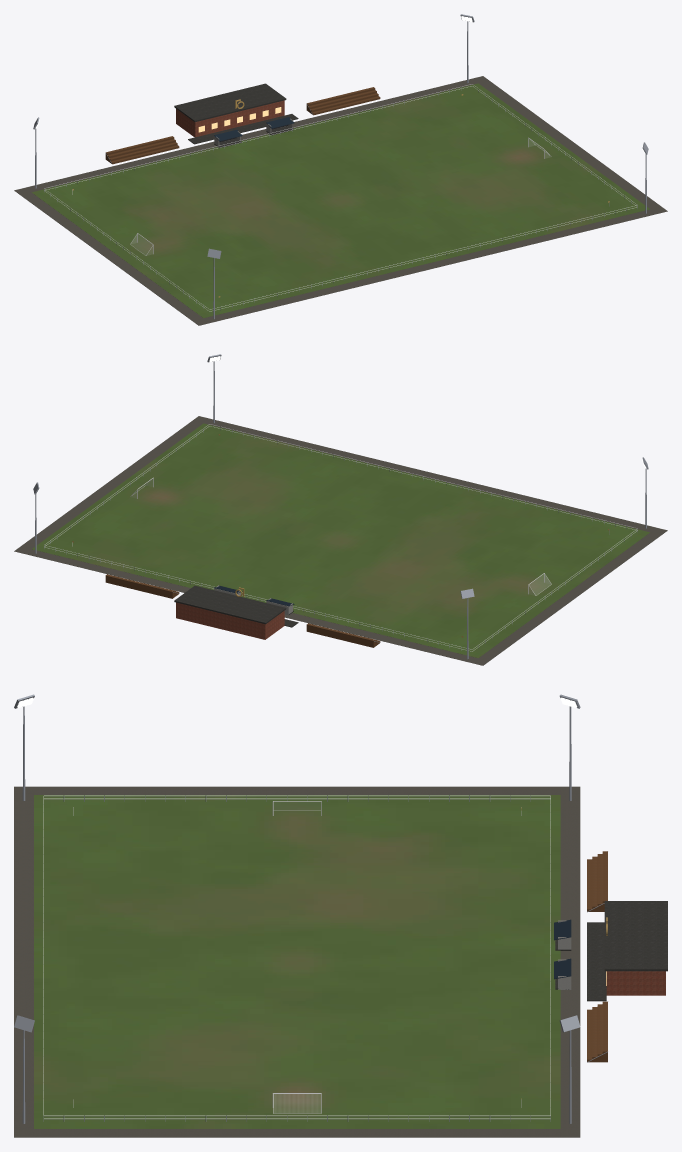
The model's file is terrain_L1.glb.
3 renders of one model, top to bottom at view 1: azimuth 30°, elevation 25°; view 2: azimuth 150°, elevation 25°; view 3: azimuth 270°, elevation 25°, orthographic. The views are drawn at different scales.
Parts seen in each view (by area): view 1: pitch_L1_L1, gravel_L1, concrete_dark_L1, white_L1, wood_L1, brick_L1, steel_L1; view 2: pitch_L1_L1, gravel_L1, white_L1, concrete_dark_L1, brick_L1, wood_L1, steel_L1; view 3: pitch_L1_L1, gravel_L1, concrete_dark_L1, white_L1, wood_L1, steel_L1, brick_L1, net_L1.
Boxes of the visible parts, x1,y1,x2,y2 form: pitch_L1_L1: (32, 83, 649, 318); gravel_L1: (14, 76, 667, 325); concrete_dark_L1: (174, 83, 298, 147); white_L1: (44, 84, 637, 311); wood_L1: (105, 87, 380, 164); brick_L1: (176, 100, 284, 137); steel_L1: (33, 14, 648, 319); pitch_L1_L1: (32, 423, 649, 658); gravel_L1: (14, 416, 667, 665); white_L1: (44, 424, 637, 651); concrete_dark_L1: (174, 585, 298, 627); brick_L1: (176, 602, 284, 639); wood_L1: (105, 574, 380, 647); steel_L1: (33, 354, 648, 659); pitch_L1_L1: (34, 795, 560, 1128); gravel_L1: (14, 786, 580, 1137); concrete_dark_L1: (555, 901, 667, 1001); white_L1: (43, 795, 550, 1119); wood_L1: (587, 851, 607, 1062); steel_L1: (14, 694, 607, 1123); brick_L1: (606, 971, 665, 995); net_L1: (274, 802, 320, 1112).
Size of the model in its own units: 126 by 17.61 by 99.32.
Materials: 14 (8 with a texture image).
